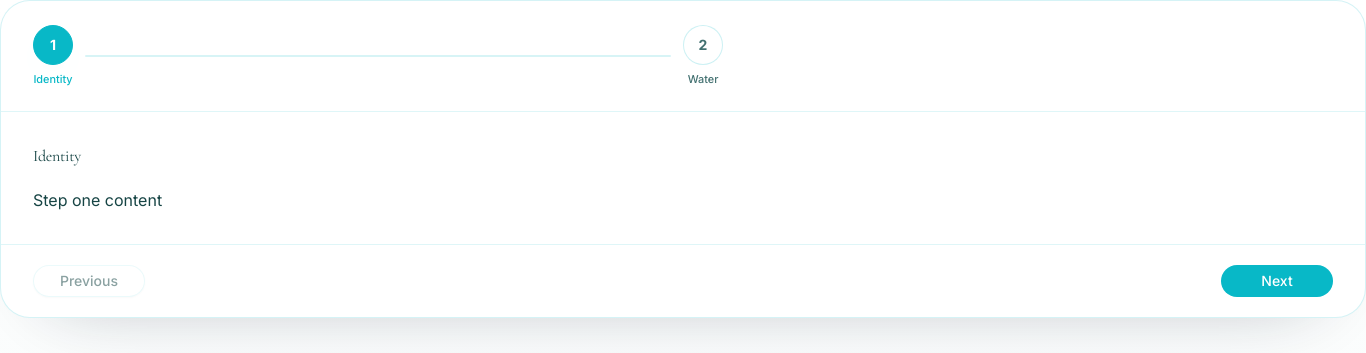
Stepper › allows direct step clicks to change the active step
Click the button "2 Water".
click(703, 56)  # box [683,25,723,87]
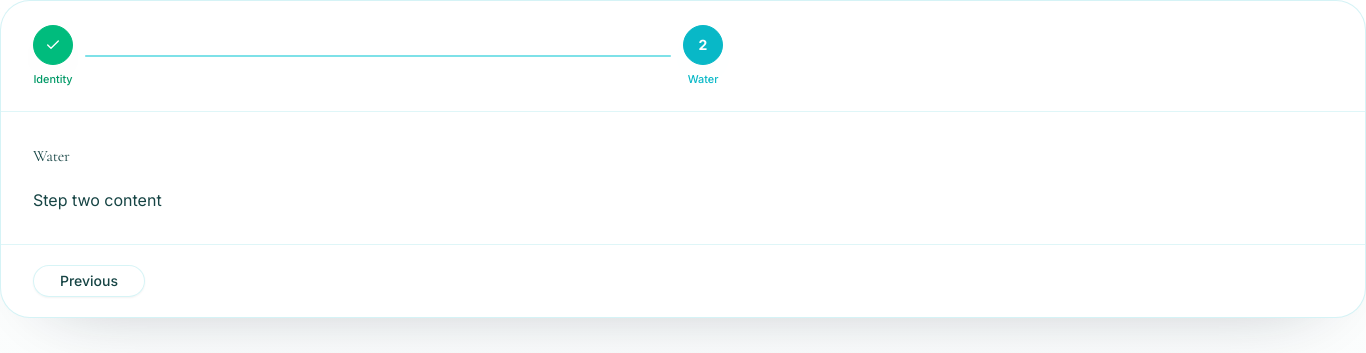
Now the text "Step two content" is shown, box [33,190,162,210]
